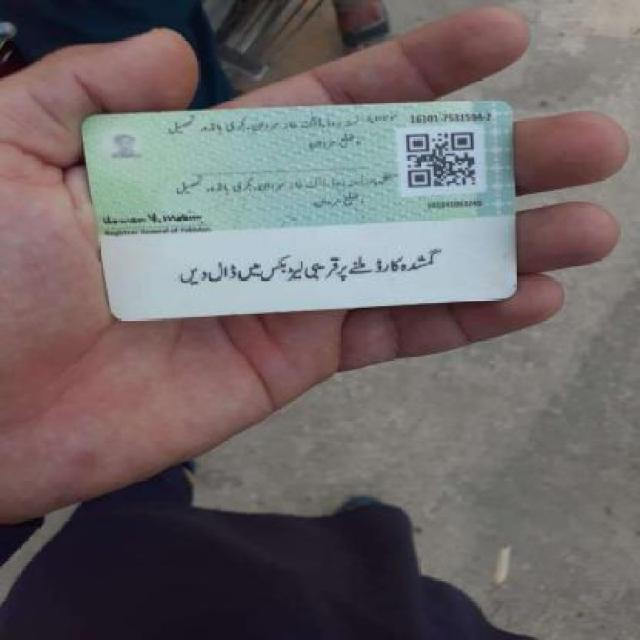Back: (71, 99, 532, 308)
